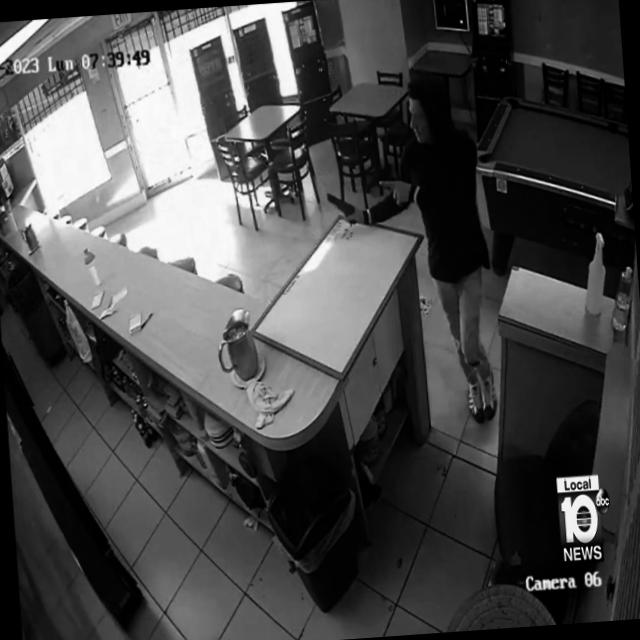gun: (324, 188, 360, 230)
person with a gun: (317, 70, 501, 433)
